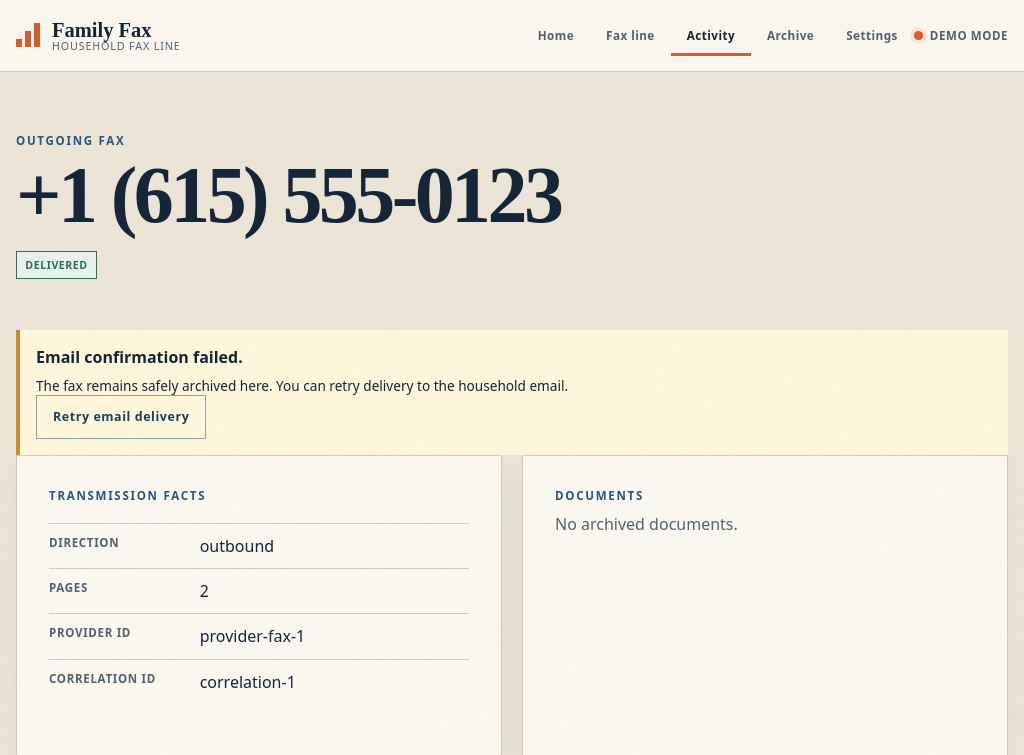
Test: fax email confirmation status › shows outbound email failure separately and retries it
expect the text "Email confirmation failed." is shown: met, box [36,346,243,368]
Click the button "Retry email delivery" at (121, 417), box [36,395,206,439]
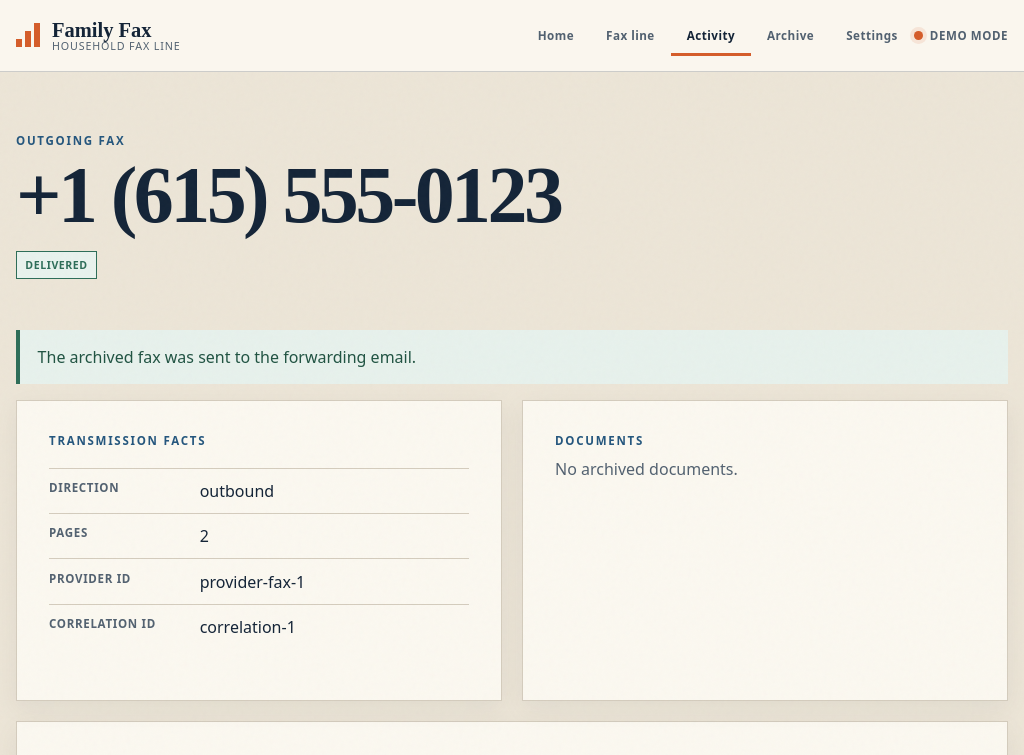
expect the text "The archived fax was sent to the forwarding email." is shown: met, box [16,330,1008,384]
